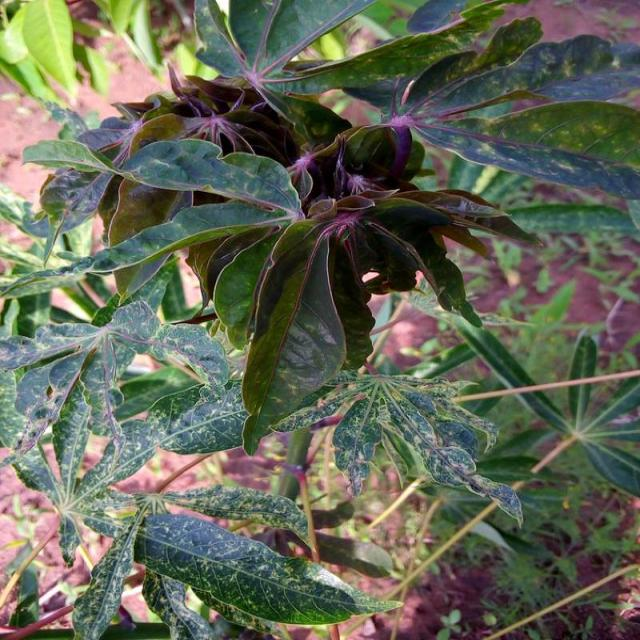cassava leaf: (0, 1, 638, 636), (133, 511, 404, 630), (239, 216, 347, 457)
